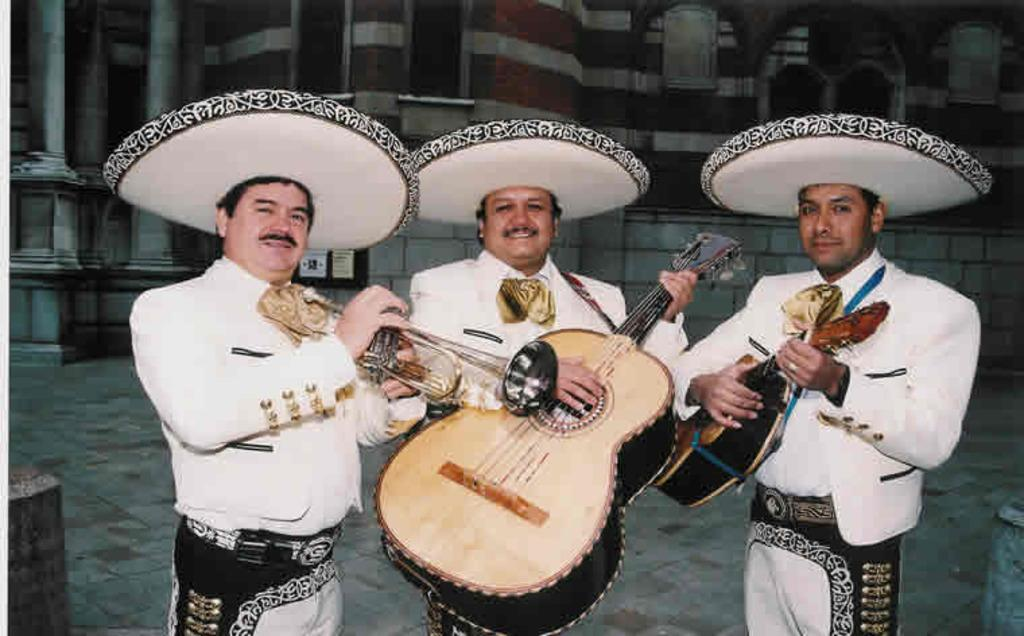Hat: (102, 86, 419, 248), (702, 112, 1000, 222), (410, 119, 652, 224)
